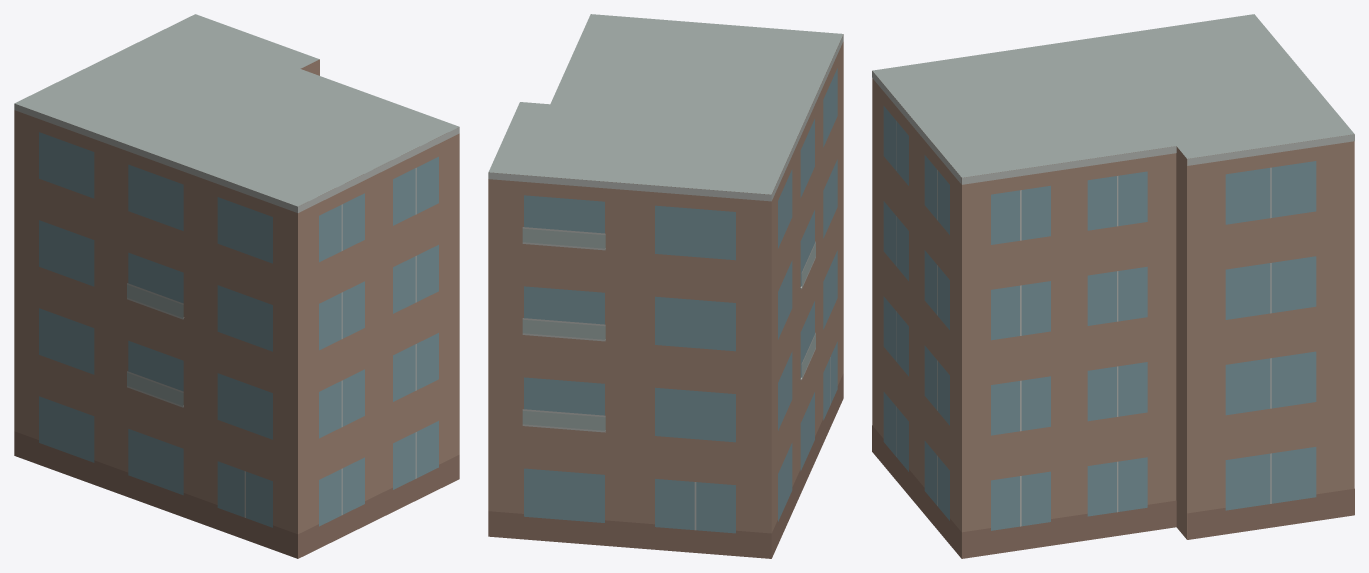
Rendered from survey-upis-32724919.glb.
3 renders of one model, left to right at view 1: azimuth 30°, elevation 25°; view 2: azimuth 150°, elevation 25°; view 3: azimuth 270°, elevation 25°, orthographic. The views are drawn at different scales.
Parts seen in each view (by area): view 1: survey-upis-32724919.tmp; view 2: survey-upis-32724919.tmp; view 3: survey-upis-32724919.tmp.
Part boxes in pixels (x1,y1,x2,y2): survey-upis-32724919.tmp: (14, 14, 459, 558); survey-upis-32724919.tmp: (488, 14, 843, 558); survey-upis-32724919.tmp: (872, 14, 1354, 558).
Bounding box in the file's own units: 12.08 × 13.1 × 15.04.
